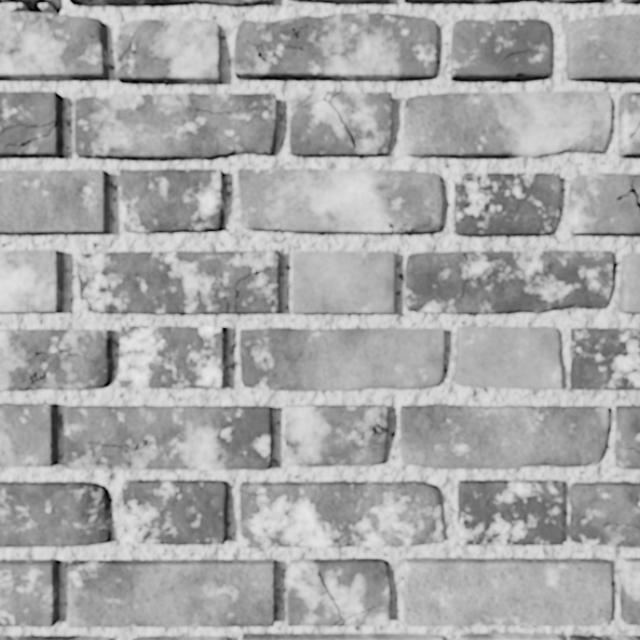brick: (403, 558, 611, 625), (67, 559, 274, 626), (235, 12, 437, 79), (404, 91, 610, 156), (240, 481, 442, 547), (400, 404, 606, 468), (74, 93, 275, 158), (238, 169, 440, 233), (64, 405, 269, 468), (405, 250, 612, 312), (76, 250, 278, 313), (239, 328, 442, 389), (0, 481, 110, 546), (0, 13, 106, 78), (0, 169, 107, 233), (287, 558, 388, 625), (457, 480, 562, 544), (122, 480, 226, 544), (454, 172, 559, 235), (0, 330, 112, 389), (116, 19, 220, 82), (119, 325, 224, 387), (290, 91, 390, 156), (119, 169, 222, 232), (455, 327, 560, 387), (292, 251, 394, 312), (284, 404, 386, 465), (451, 19, 550, 79), (566, 13, 639, 80), (569, 482, 639, 547), (568, 173, 639, 234), (571, 328, 639, 388), (0, 91, 61, 155), (0, 559, 58, 626), (0, 250, 61, 310), (0, 403, 57, 466), (616, 405, 639, 468), (618, 91, 639, 155), (620, 558, 639, 624), (241, 633, 442, 639), (619, 253, 639, 312), (70, 0, 272, 5), (458, 632, 560, 639), (403, 0, 602, 3), (0, 635, 111, 639), (131, 635, 226, 639), (569, 635, 639, 639), (295, 0, 387, 2), (0, 0, 54, 2), (618, 0, 639, 2), (328, 91, 335, 97)
crack: (316, 568, 375, 626), (303, 90, 356, 148), (0, 118, 57, 151), (233, 264, 263, 313), (458, 250, 484, 304), (353, 416, 388, 446), (115, 24, 143, 61), (0, 0, 62, 15), (210, 267, 228, 313), (614, 178, 639, 208), (385, 220, 428, 233), (601, 521, 639, 528), (0, 574, 20, 584), (628, 120, 639, 138), (239, 489, 262, 495), (626, 445, 639, 453), (631, 91, 639, 96)
